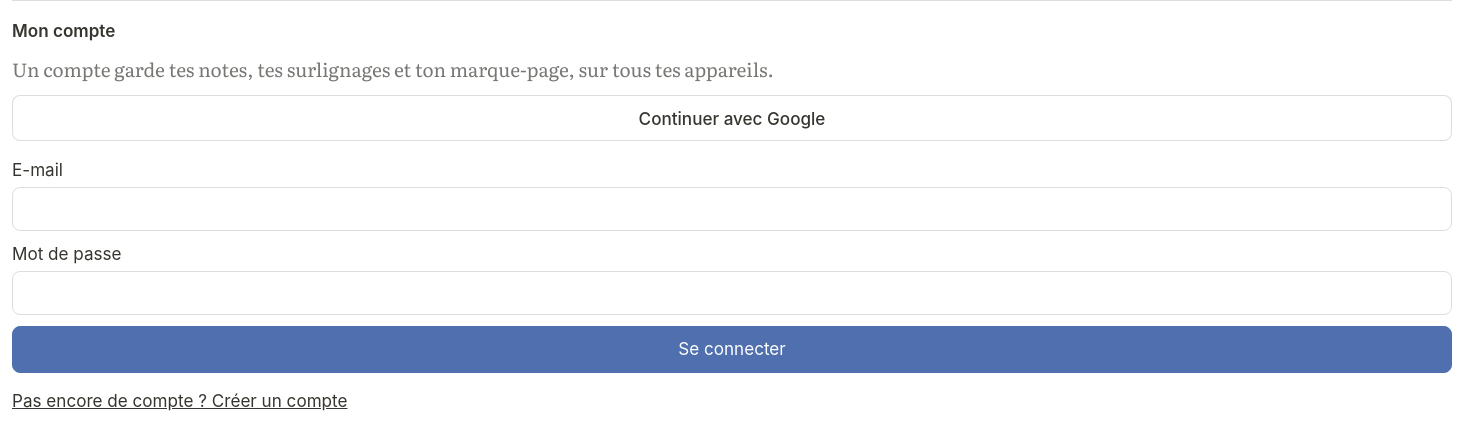
Test: AccountSection › création par e-mail pas encore ouverte : le formulaire renvoie vers Google
This screenshot has width=1464, height=434.
Click the button "Pas encore de compte ? Créer un compte" at point(180, 400), box [12,384,1452,418]
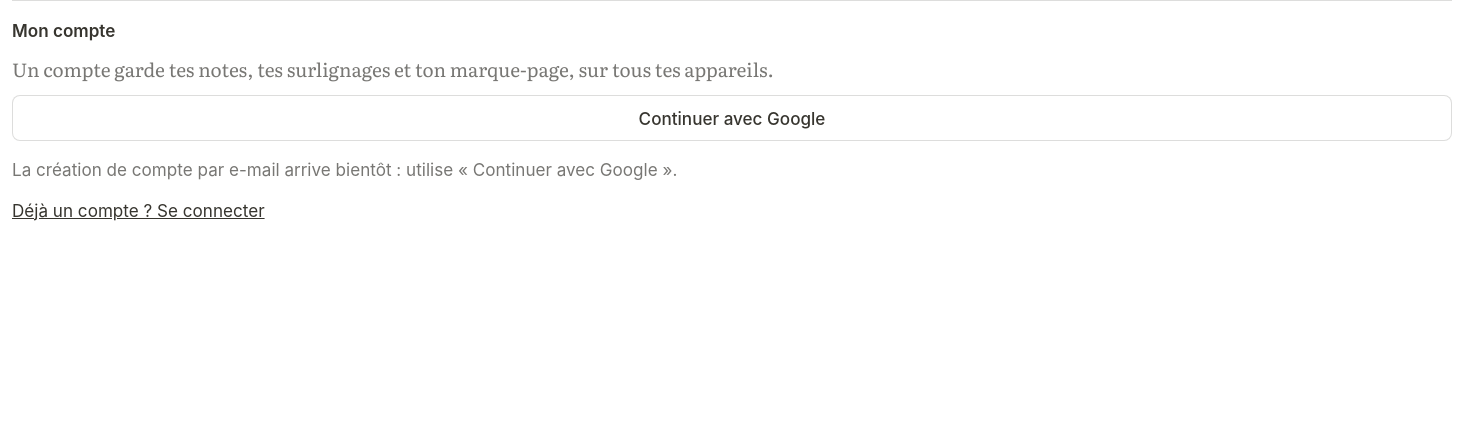
Now the text "arrive bientôt" is shown, box [12,160,392,180]
